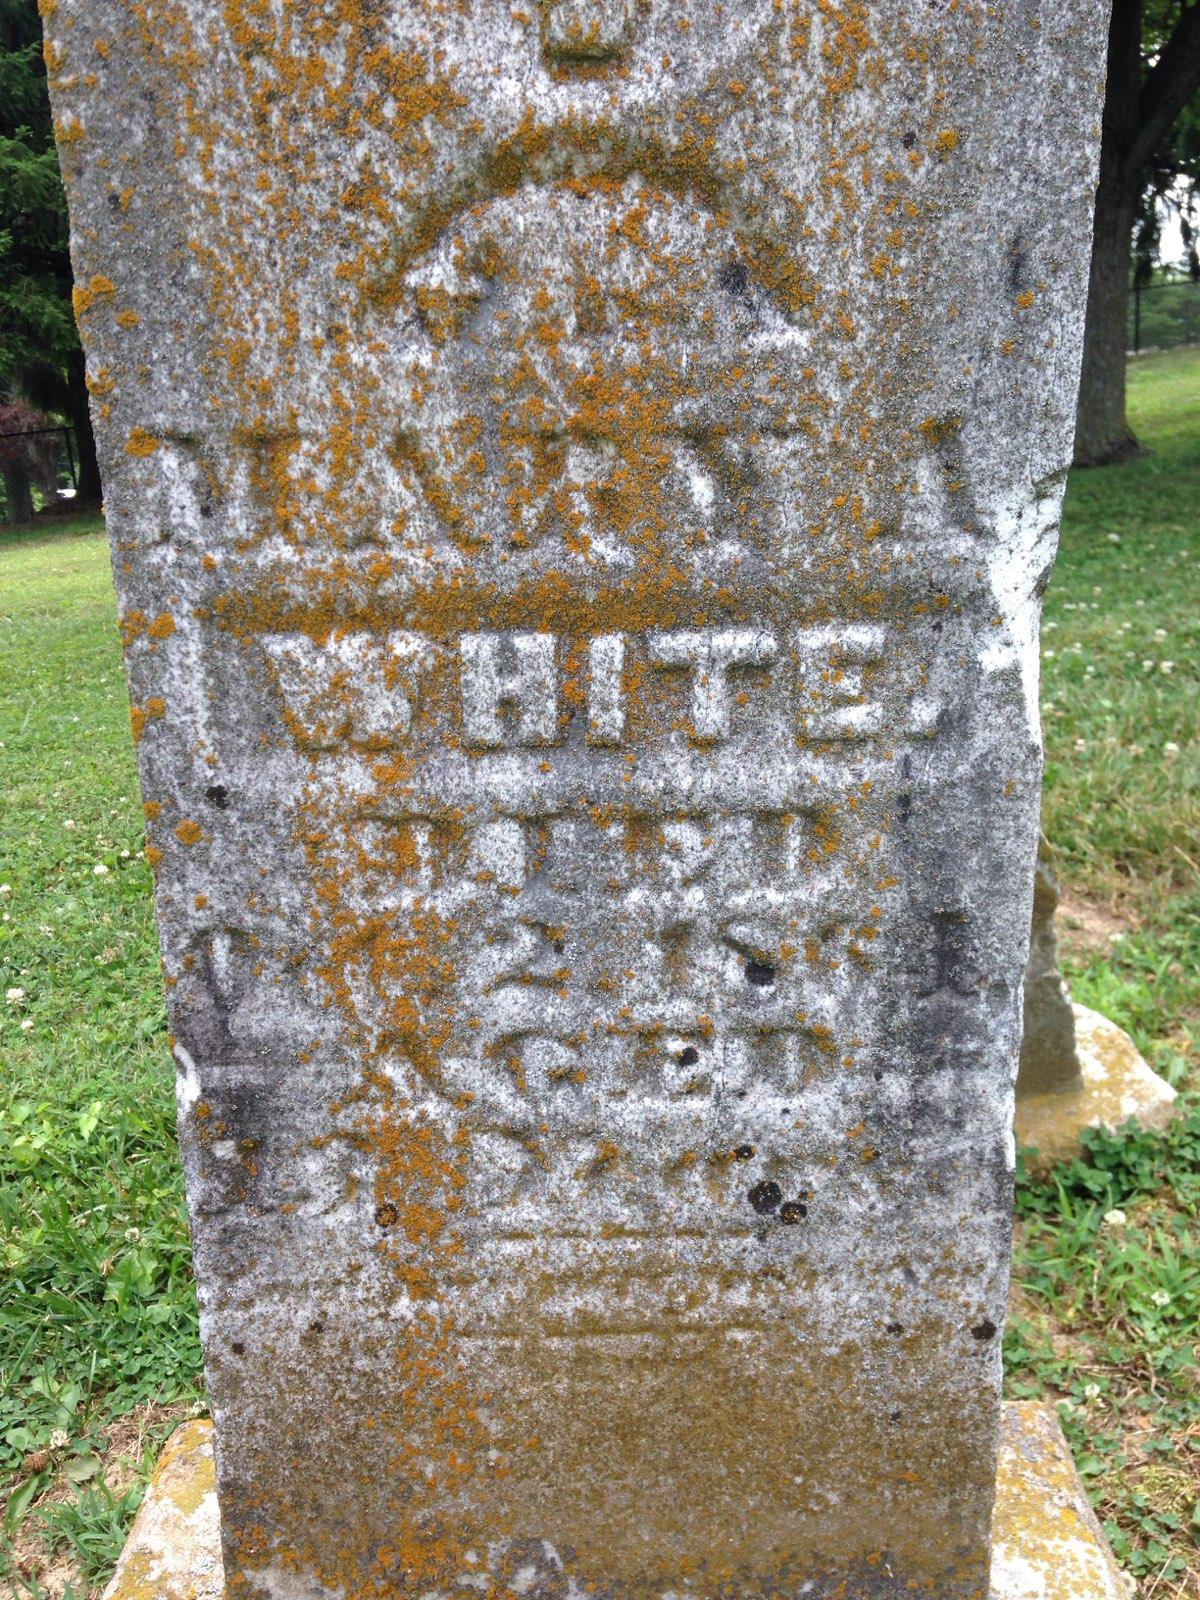upright: (35, 3, 1118, 1596)
